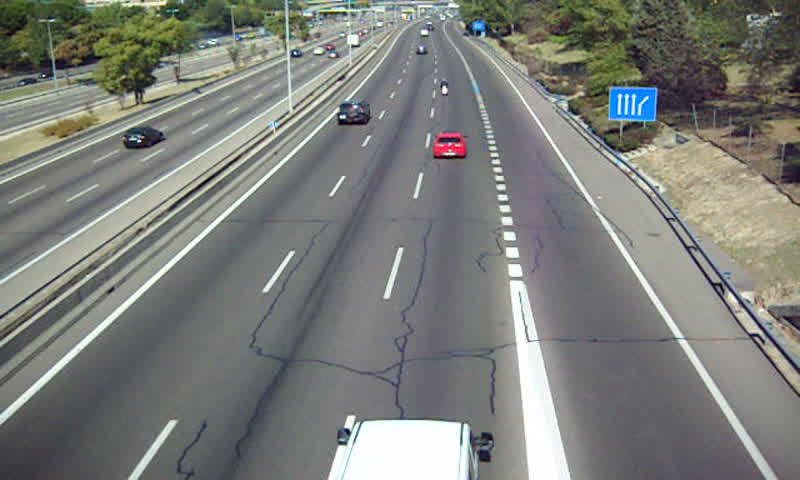car: (433, 132, 468, 158), (337, 100, 372, 124)
motorcycle: (439, 78, 451, 96)
